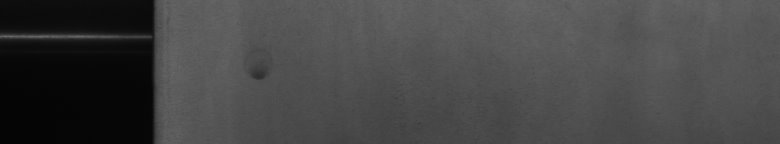fi: (249, 71, 269, 88)
